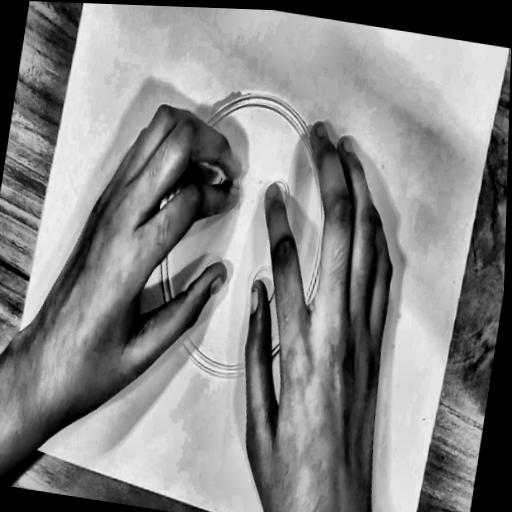bottom_left: (3, 426, 11, 439)
button: (117, 60, 365, 421)
